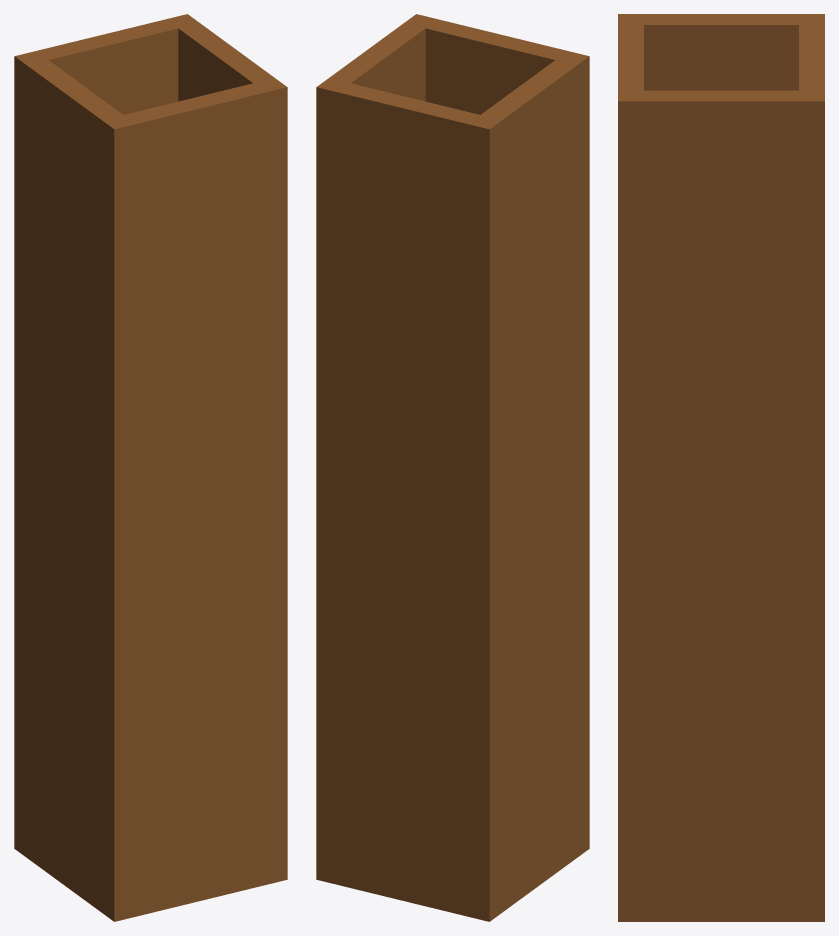
The model's file is humanoid-28.obj.
3 renders of one model, left to right at view 1: azimuth 30°, elevation 25°; view 2: azimuth 150°, elevation 25°; view 3: azimuth 270°, elevation 25°, orthographic. The views are drawn at different scales.
Visible parts, largest first — view 1: humanoid-28; view 2: humanoid-28; view 3: humanoid-28.
Boxes of the visible parts, <box> form: humanoid-28: <box>14,14,287,921</box>; humanoid-28: <box>316,14,589,921</box>; humanoid-28: <box>618,14,824,921</box>.
Size of the model in its own units: 8 by 35 by 8.
Materials: 1 (1 with a texture image).
